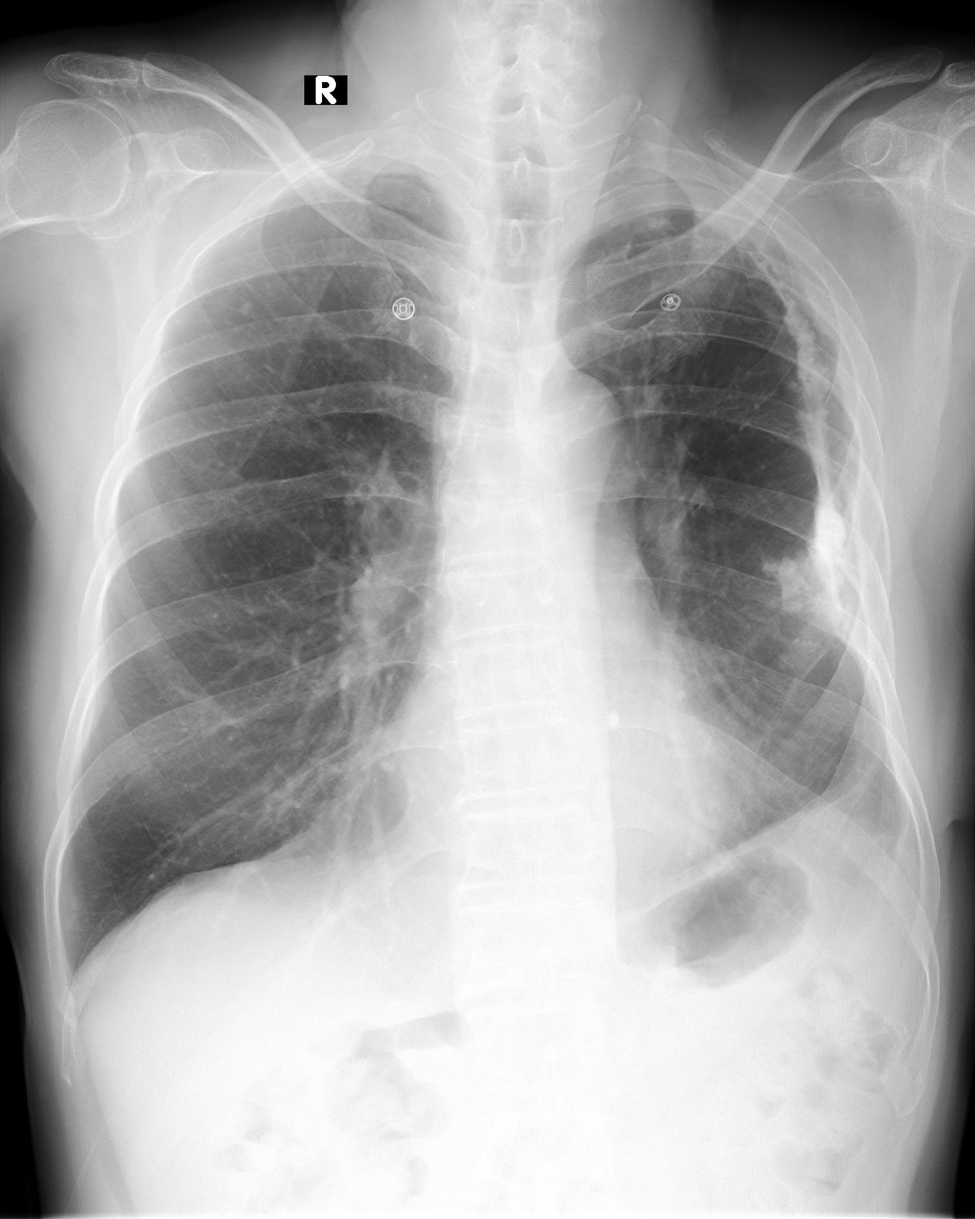Pleural thickening: (697, 176, 931, 889)
